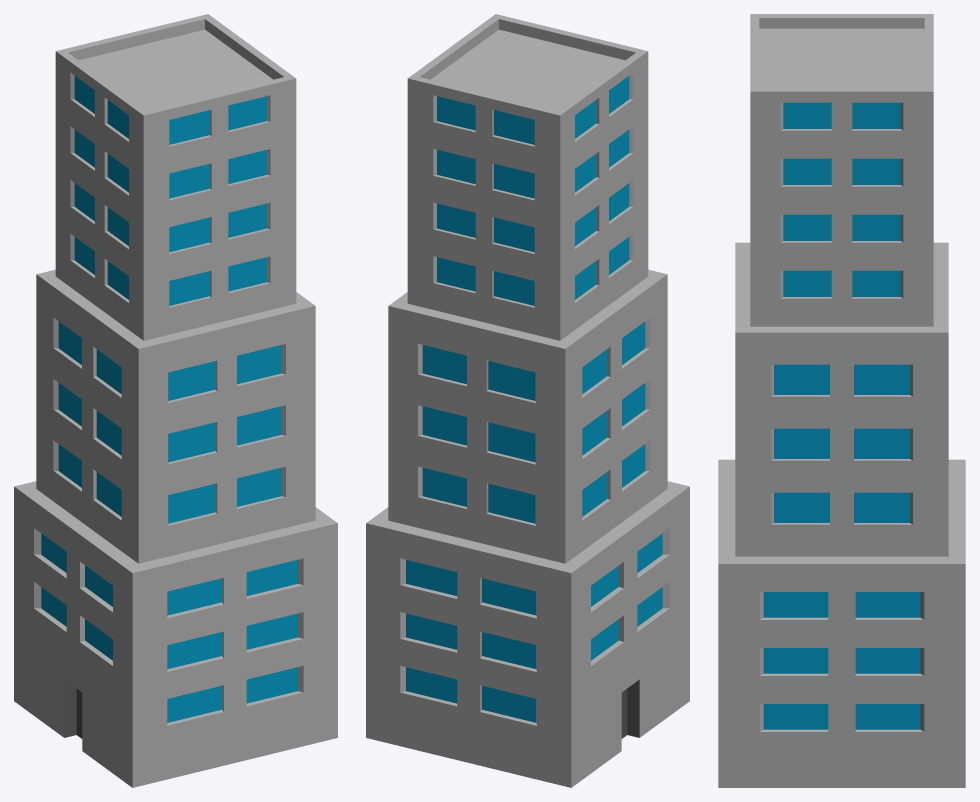
File: bigHouse.fbx
The picture shows the model from 3 angles, left to right: view 1: azimuth 30°, elevation 25°; view 2: azimuth 150°, elevation 25°; view 3: azimuth 270°, elevation 25°; orthographic projection. The views are drawn at different scales.
Parts seen in each view (by area): view 1: Cube.001; view 2: Cube.001; view 3: Cube.001.
Part boxes in pixels (x1,y1,x2,y2): Cube.001: (14,14,337,787); Cube.001: (366,14,689,787); Cube.001: (718,14,965,787).
Size of the model in its own units: 300 by 915 by 300.
